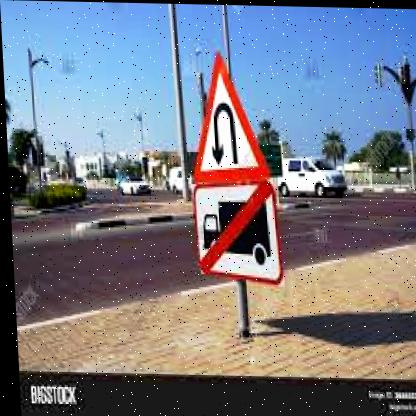U-turn: (185, 49, 269, 185)
